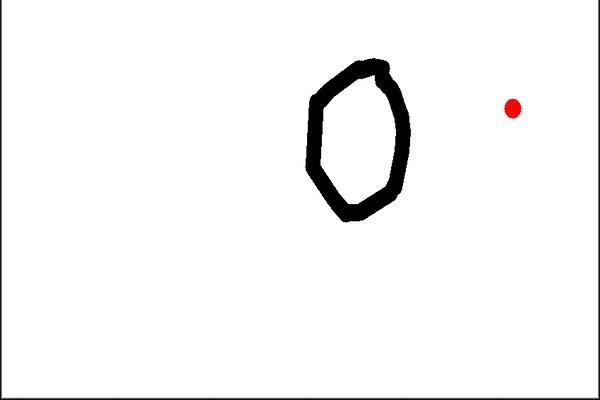O: (289, 52, 420, 232)
